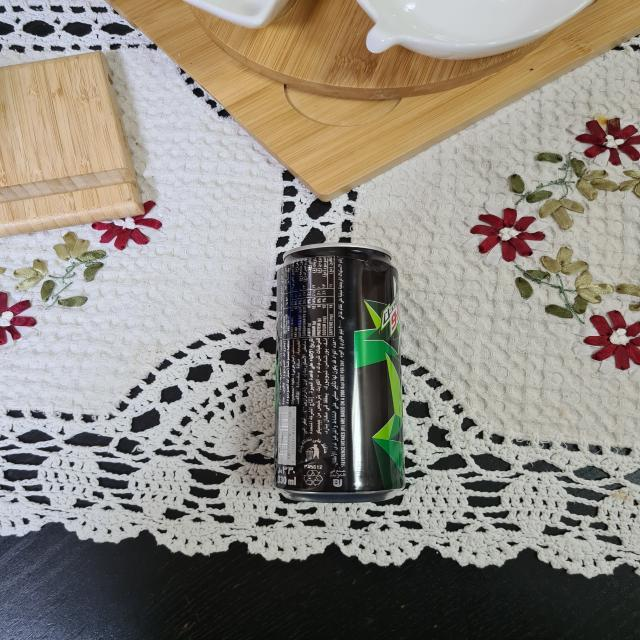can: (278, 243, 407, 504)
